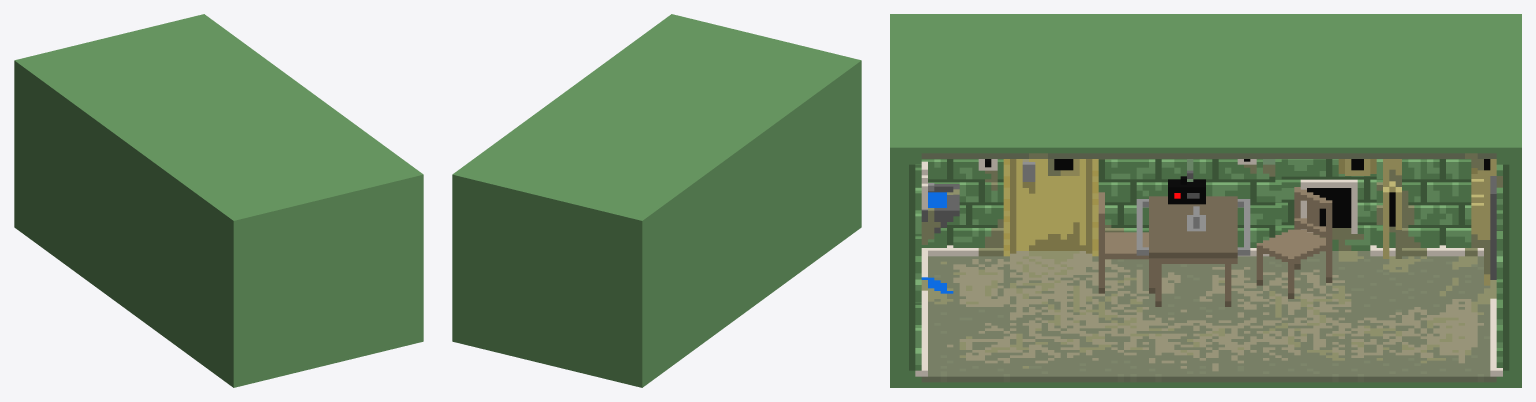
The picture shows the model from 3 angles, left to right: view 1: azimuth 30°, elevation 25°; view 2: azimuth 150°, elevation 25°; view 3: azimuth 270°, elevation 25°; orthographic projection. The views are drawn at different scales.
Bounding box in the file's own units: 50 × 42 × 100.
1 material, 1 textured.
